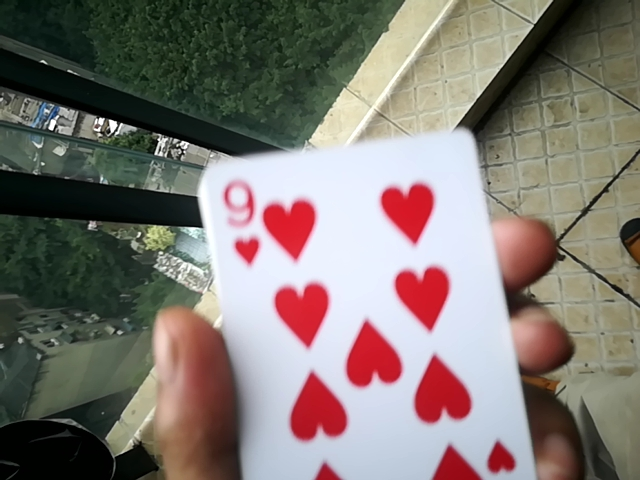hx 9: (187, 132, 533, 479)
